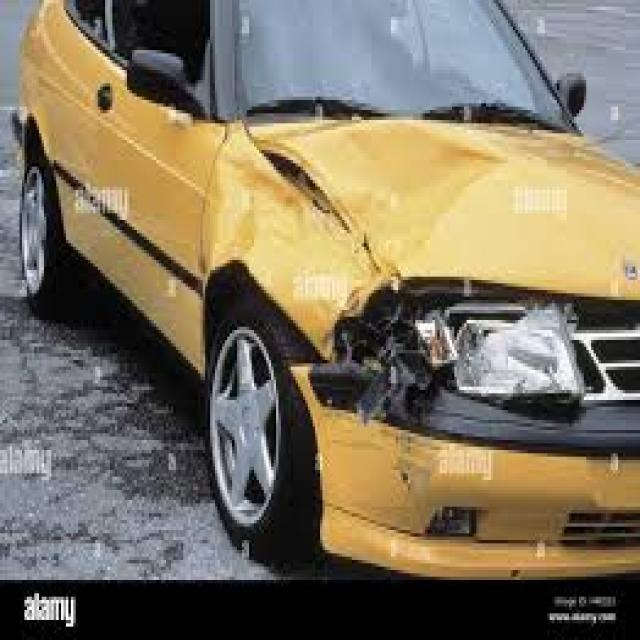damaged-head-light: (357, 290, 576, 400)
damaged-hood: (252, 120, 640, 293)
